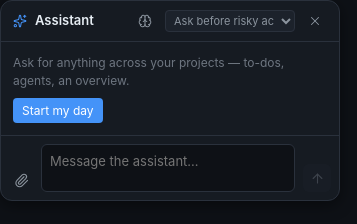
AssistantPane › sends the typed turn and shows it in the log
The image size is (357, 224).
Type "what is open?" into the text box labelled "Message the assistant" at point(168, 168), box [41, 144, 295, 192]
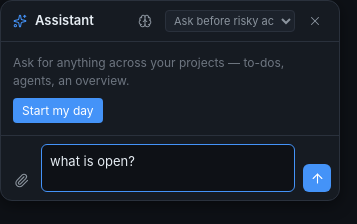
Click the button named "Send" at point(317, 178), box [303, 164, 331, 192]
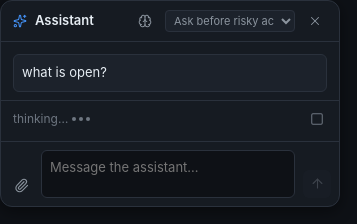
Expected: the text "what is open?" is shown, [13, 54, 327, 92]
Expected: the text box labelled "Message the assistant" is empty, [41, 150, 295, 198]
Expected: the message reads "thinking…", [13, 110, 68, 126]
